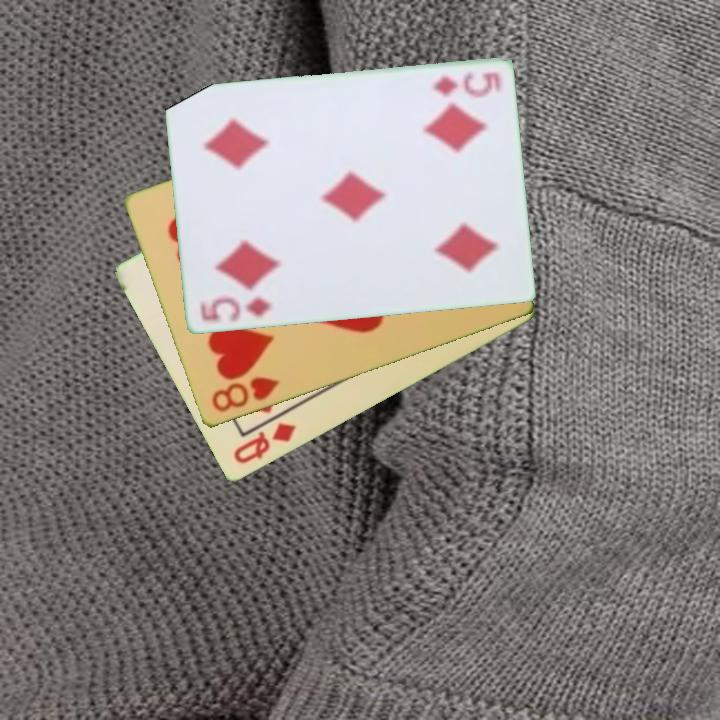5d: (196, 294, 273, 325), (429, 68, 503, 100)
8h: (208, 373, 282, 416)
Qd: (229, 420, 300, 468)
